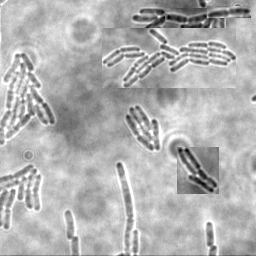Dividing: (114, 161, 133, 255), (207, 6, 251, 18), (204, 221, 215, 248)
Microcolony: (102, 28, 236, 88), (1, 51, 56, 147), (1, 162, 44, 231), (165, 8, 226, 44), (177, 147, 219, 194), (124, 106, 160, 153), (63, 208, 74, 240)
